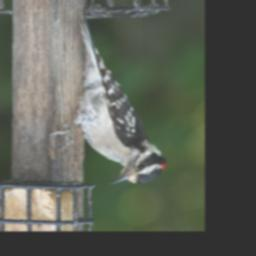Woodpecker: (49, 14, 166, 185)
